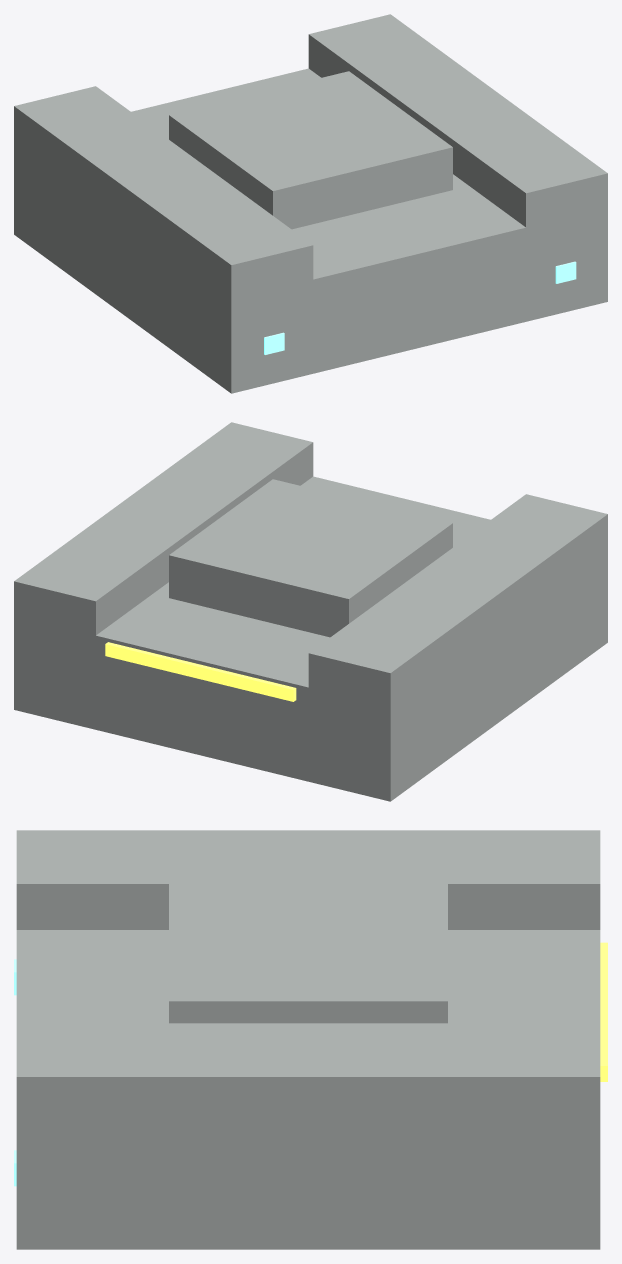
File: retail_complex_lod1-D1TjW2xb.glb
The picture shows the model from 3 angles, top to bottom: view 1: azimuth 30°, elevation 25°; view 2: azimuth 150°, elevation 25°; view 3: azimuth 270°, elevation 25°; orthographic projection. The views are drawn at different scales.
Visible parts, largest first — view 1: body, window; view 2: body, sign; view 3: body, sign.
Boxes of the visible parts, x1,y1,x2,y2 form: body: [14, 14, 607, 393]; window: [264, 261, 576, 354]; body: [14, 422, 607, 801]; sign: [105, 642, 296, 701]; body: [16, 830, 600, 1249]; sign: [600, 942, 607, 1081].
Size of the model in its own units: 0.92 by 0.32 by 0.936.
